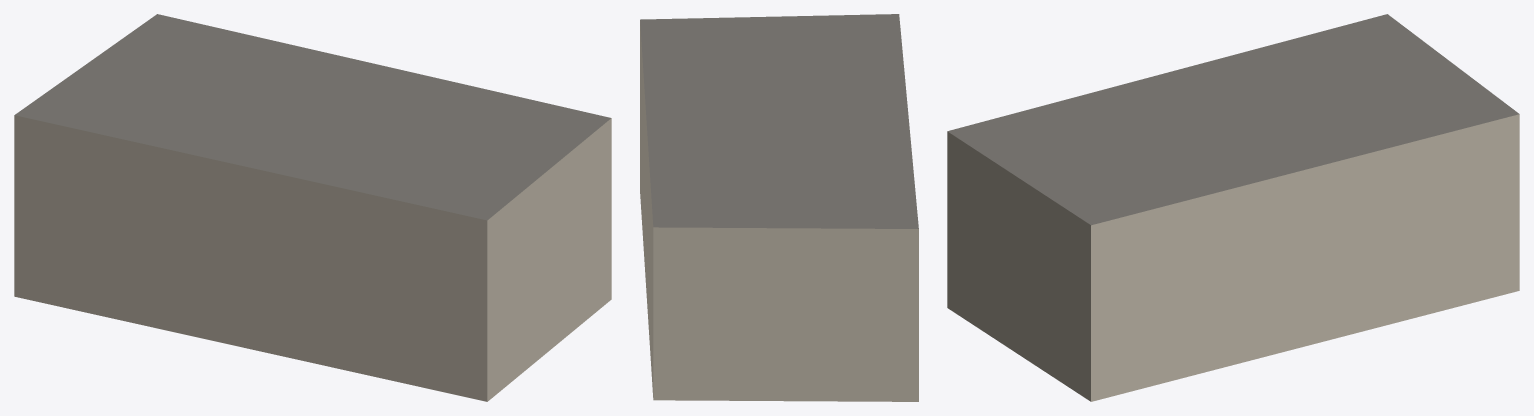
3 views of the same model, side by side, from view 1: azimuth 30°, elevation 25°; view 2: azimuth 150°, elevation 25°; view 3: azimuth 270°, elevation 25° (orthographic). The views are drawn at different scales.
Visible parts, largest first — view 1: HP-w505633392; view 2: HP-w505633392; view 3: HP-w505633392.
Boxes of the visible parts, bbox=[...] form: HP-w505633392: bbox=[14, 14, 611, 401]; HP-w505633392: bbox=[640, 14, 918, 401]; HP-w505633392: bbox=[947, 14, 1519, 401].
Size of the model in its own units: 38.49 by 15 by 44.06.
